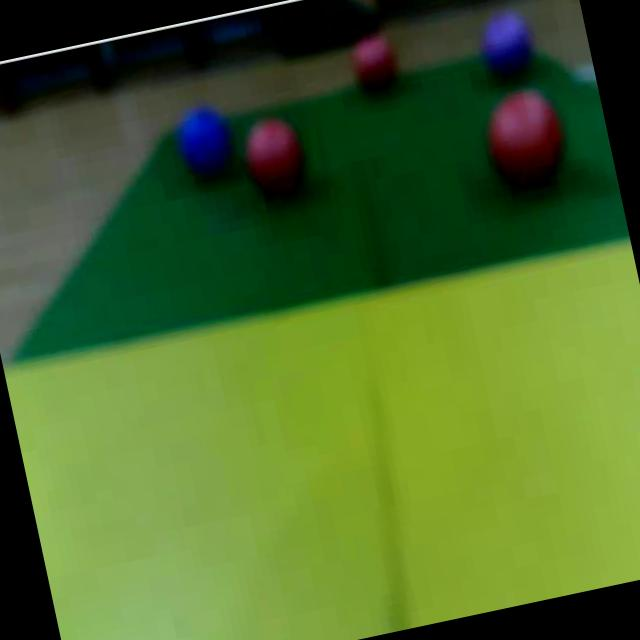blue_ball: (172, 101, 240, 186)
purple_ball: (472, 6, 546, 83)
red_ball: (478, 85, 578, 205), (240, 107, 316, 205), (346, 33, 404, 105)
